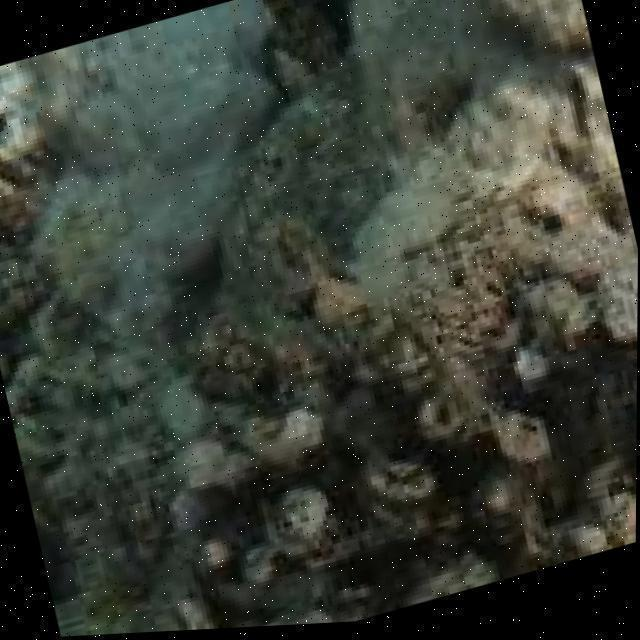Dead Coral: (182, 184, 640, 640)
